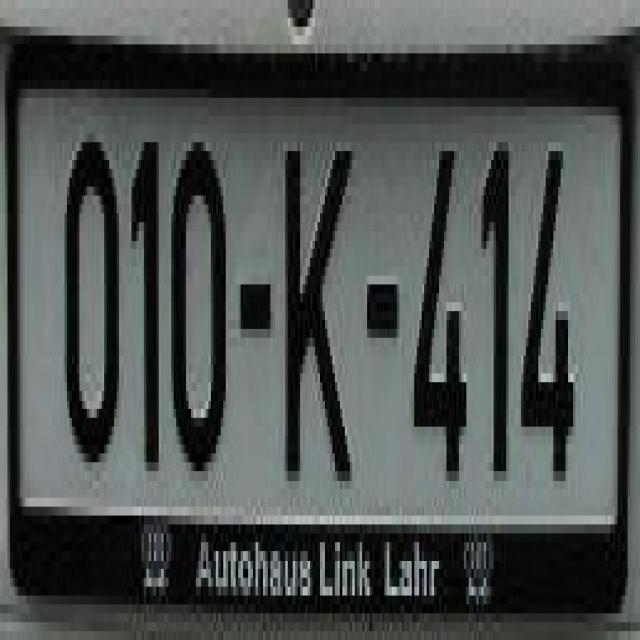0: (166, 133, 228, 480), (65, 125, 122, 471)
1: (124, 107, 164, 462), (476, 124, 514, 489)
4: (516, 133, 583, 498), (407, 124, 469, 489)
K: (276, 124, 352, 489)
